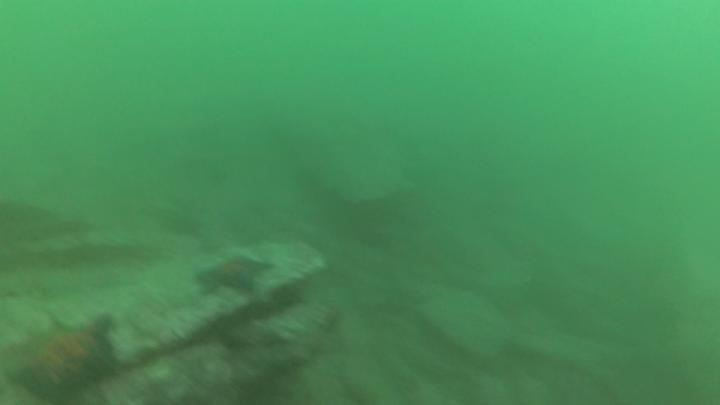starfish: (4, 310, 120, 405), (197, 254, 275, 298)
